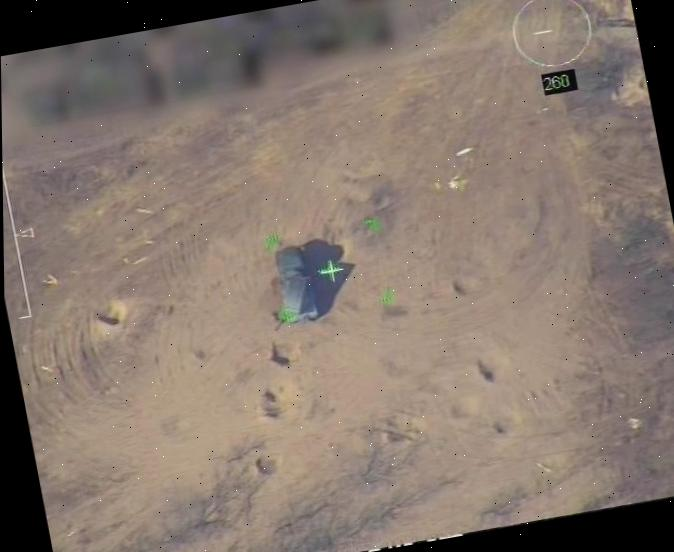rszo: (267, 242, 320, 324)
